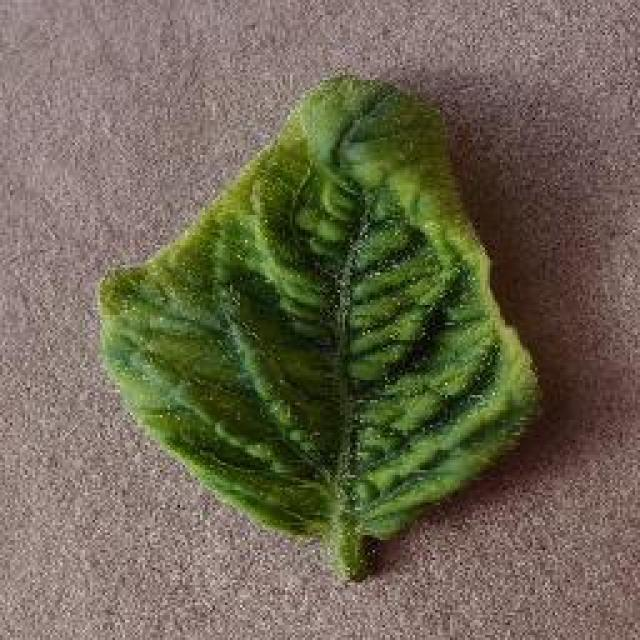Tomato yellow virus leaf: (92, 75, 546, 540)
